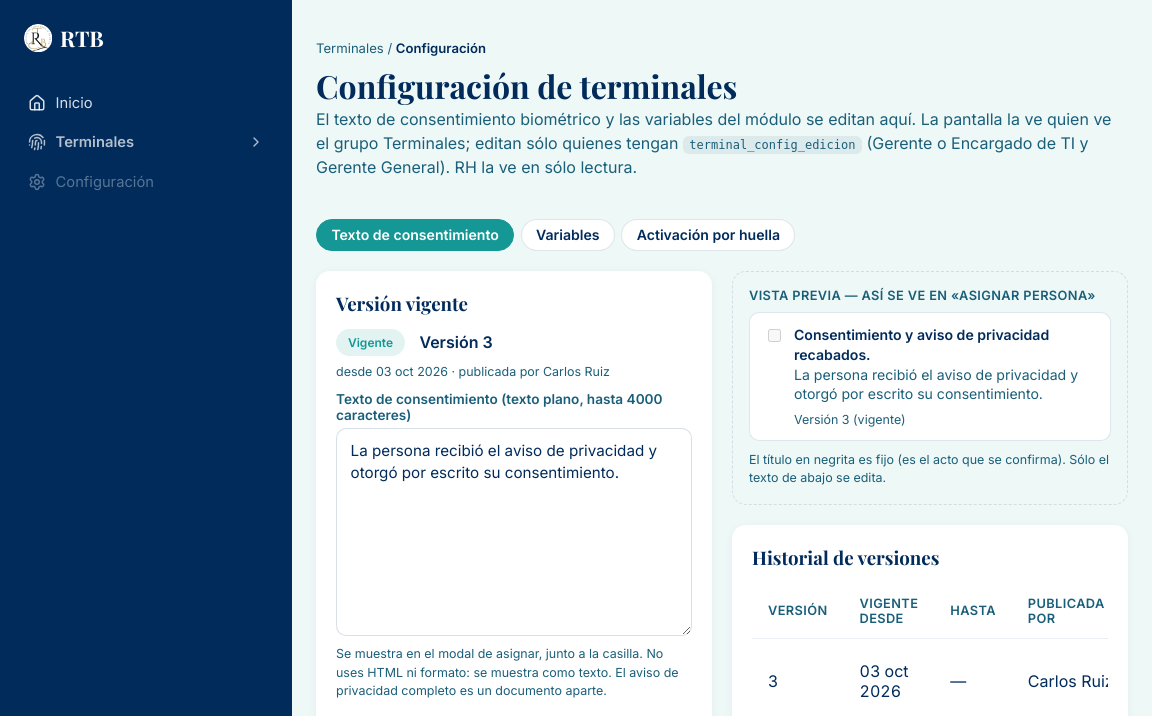
Test case: ConsentimientoTerminalesPage › el contador y la vista previa siguen lo que se escribe, con la versión siguiente como borrador
Replace the text in the text box labelled "Texto de consentimiento (texto plano, hasta 4000 caracteres)" with "Nuevo texto" at (514, 532), box [336,428,692,636]
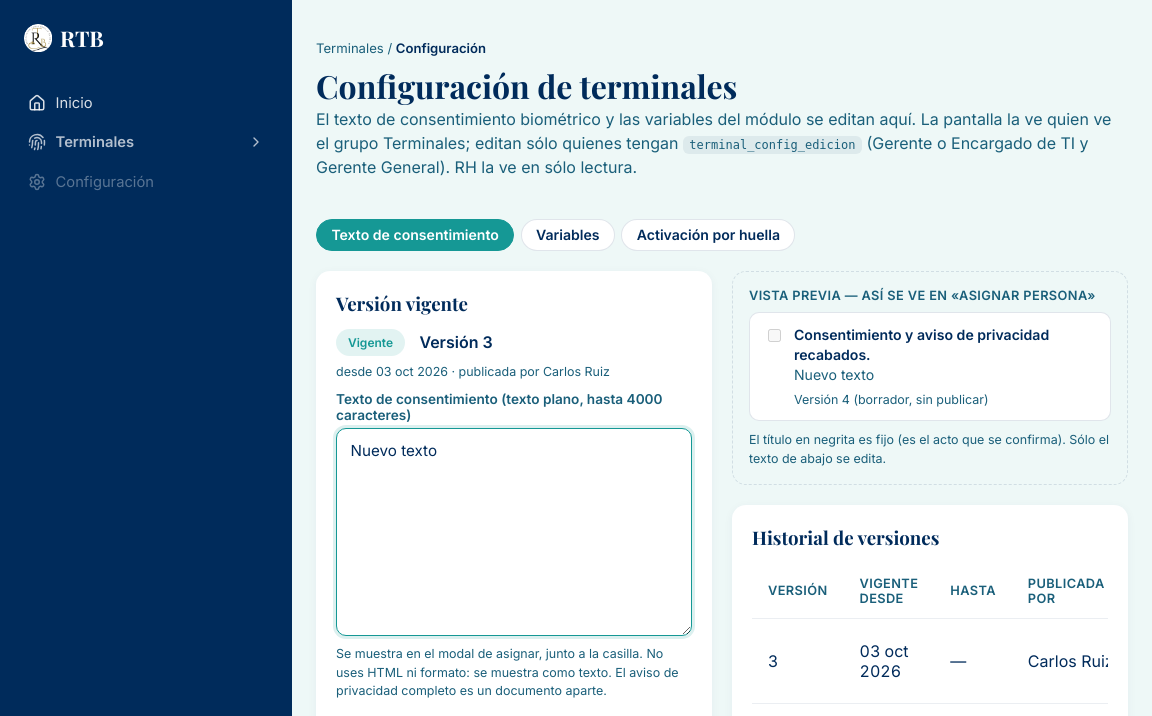
Expected: the text "Versión 4 (borrador, sin publicar)" is shown, [794,392,988,407]
Expected: the text "Nuevo texto" is shown, [794,366,874,383]
